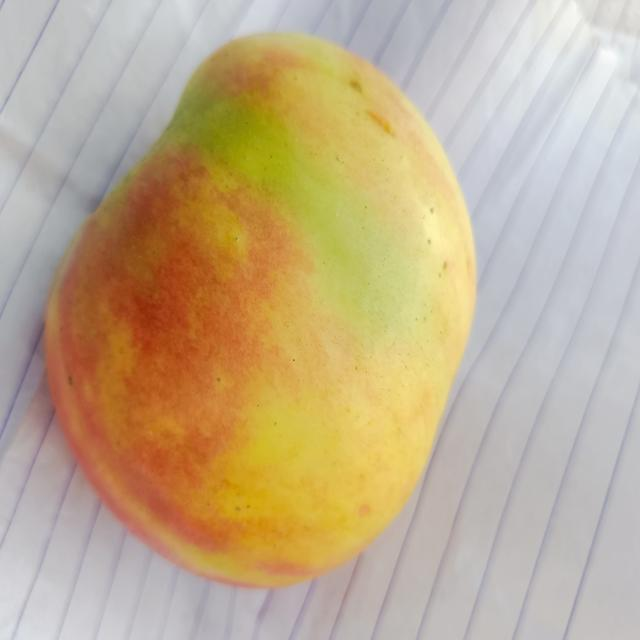Fresh Apple: (52, 40, 483, 577)
